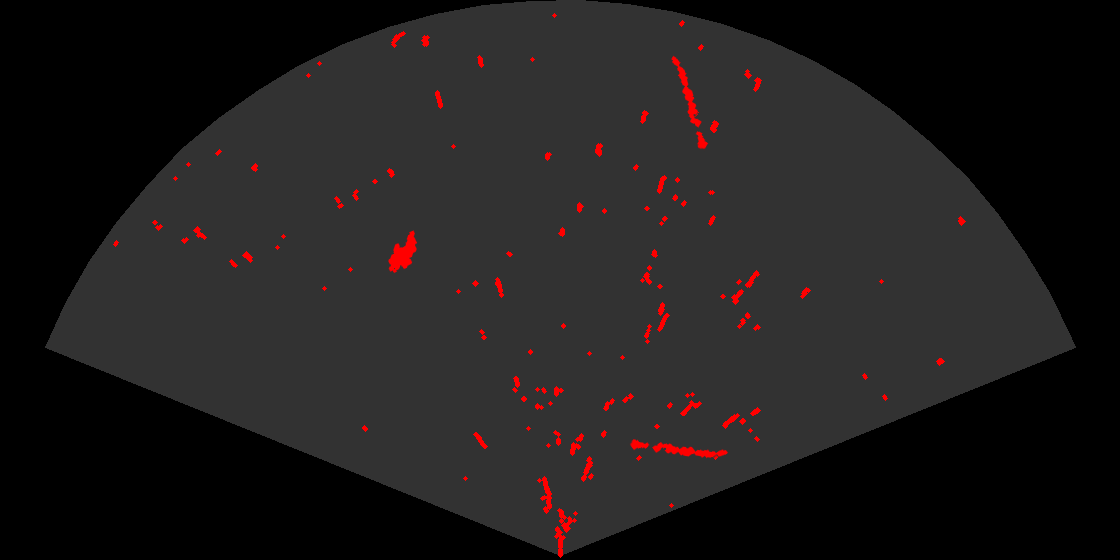AUV: (387, 229, 419, 275)
chain: (670, 54, 710, 152), (628, 438, 730, 460)
